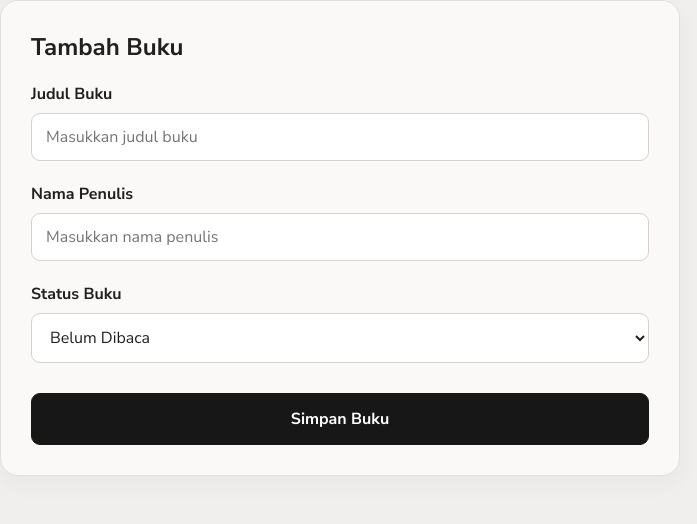
BookForm › menampilkan error jika judul kosong
The width and height of the screenshot is (697, 524).
Type "Andrea Hirata" into the field labelled "Nama Penulis".
click(340, 237); type("Andrea Hirata")  # box [31, 213, 649, 261]
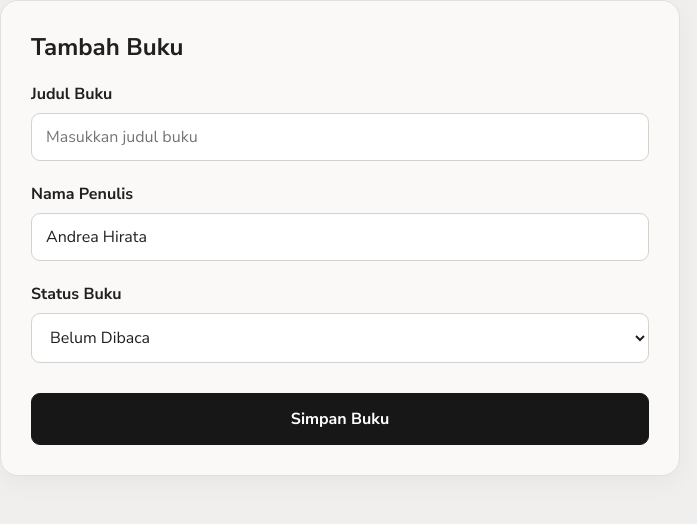
Click the button "Simpan Buku".
click(340, 419)  # box [31, 393, 649, 445]
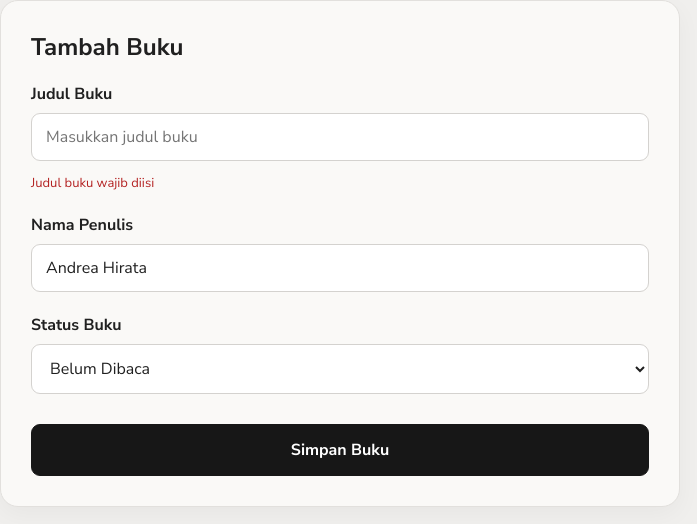
Now the text "Judul buku wajib diisi" is shown, box [31, 174, 154, 192]
